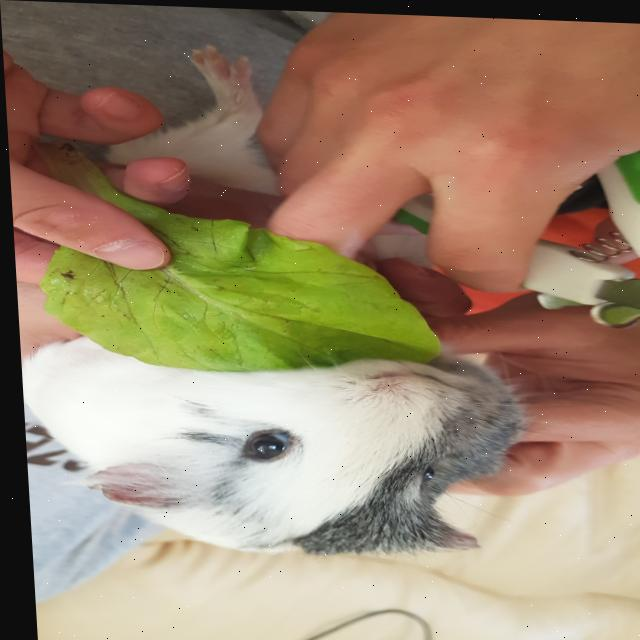guinea pig: (2, 35, 580, 566)
